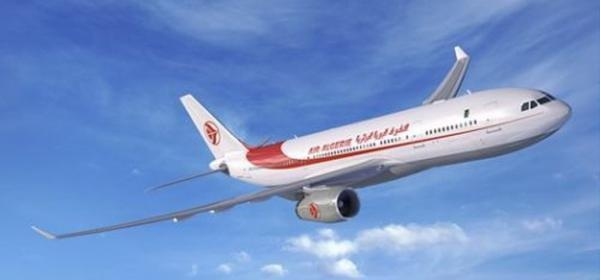airplane: (27, 47, 576, 249)
